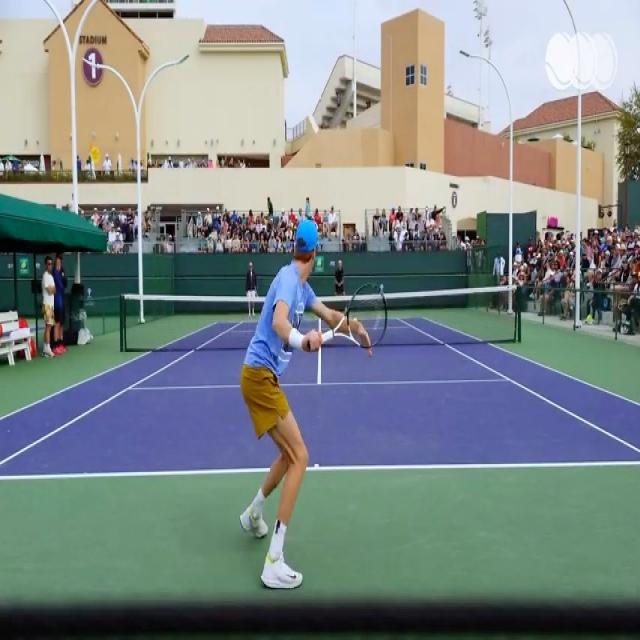forehand-ready: (228, 219, 383, 588)
